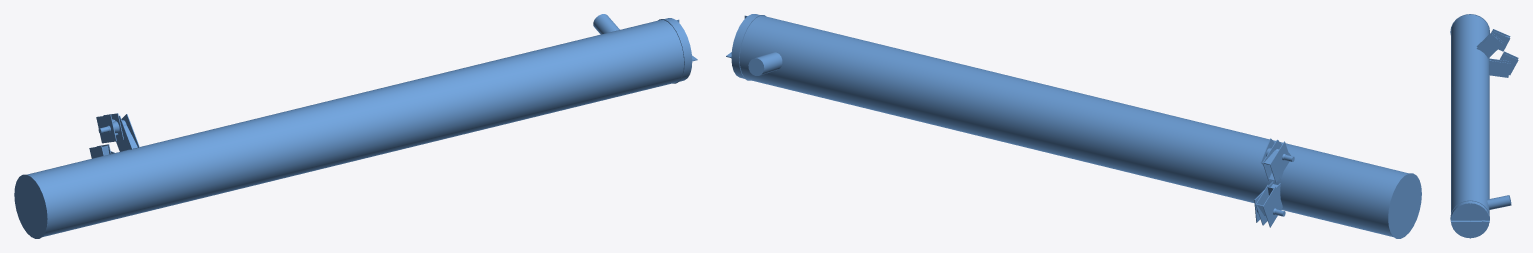
File: tank-c5.glb
3 views of the same model, side by side, from view 1: azimuth 30°, elevation 25°; view 2: azimuth 150°, elevation 25°; view 3: azimuth 270°, elevation 25° (orthographic). The views are drawn at different scales.
Parts seen in each view (by area): view 1: tank-c5; view 2: tank-c5; view 3: tank-c5.
Boxes of the visible parts, left/top/right/bottom form: tank-c5: left=14, top=14, right=697, bottom=238; tank-c5: left=726, top=14, right=1421, bottom=238; tank-c5: left=1450, top=14, right=1518, bottom=238.
Bounding box in the file's own units: 41.9 × 5.14 × 6.36.
